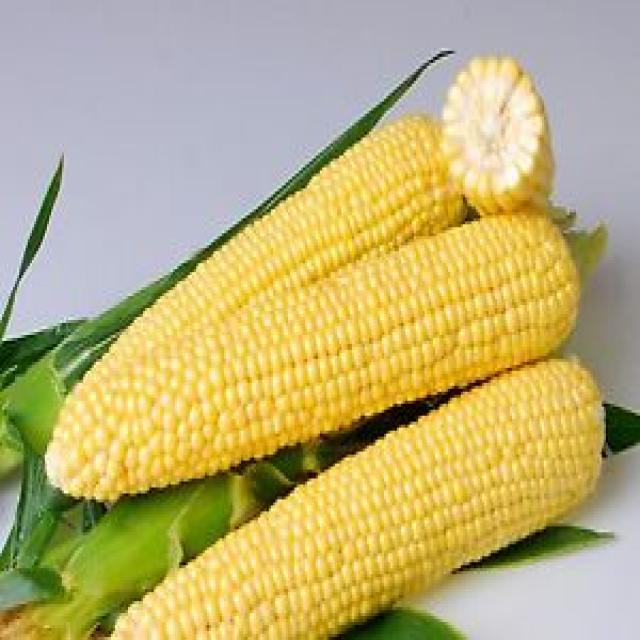corn: (43, 194, 601, 515), (98, 353, 619, 640), (86, 112, 466, 365)
